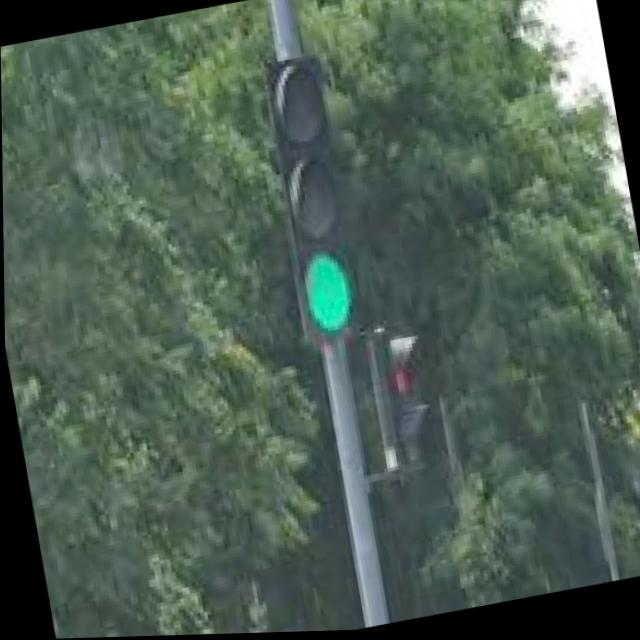green_light: (286, 238, 391, 370)
